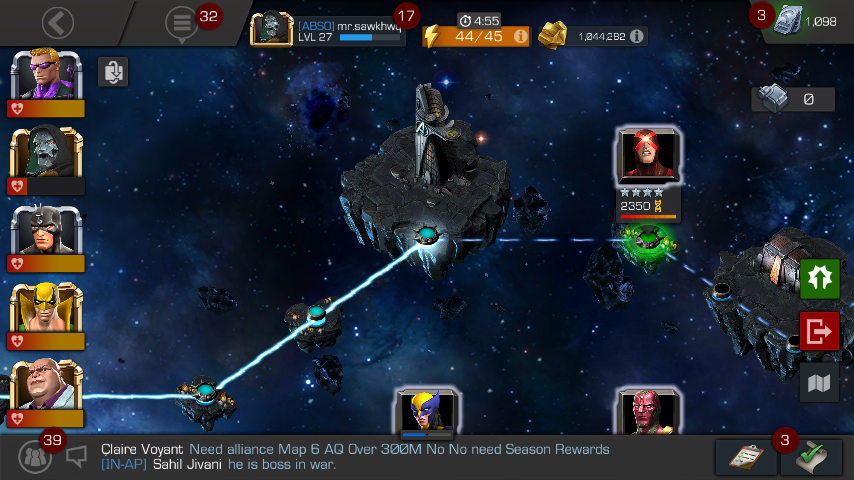green: (638, 230, 659, 247)
